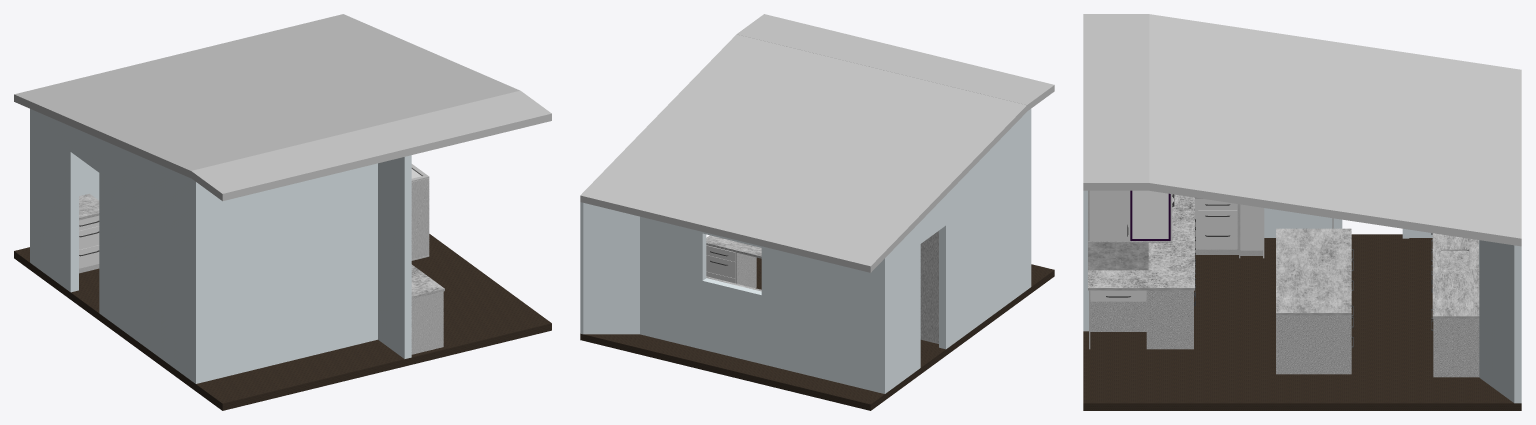
The picture shows the model from 3 angles, left to right: view 1: azimuth 30°, elevation 25°; view 2: azimuth 150°, elevation 25°; view 3: azimuth 270°, elevation 25°; orthographic projection. The views are drawn at different scales.
Parts seen in each view (by area): view 1: Layer:wall, Layer:wall.001, Layer:wall.003, Layer:fillers-columns, Layer:countertop, Layer:doors; view 2: Layer:wall.001, Layer:wall, Layer:wall.003, Layer:fillers-columns, Layer:doors, Layer:countertop; view 3: Layer:wall.001, Layer:wall.003, Layer:countertop, Layer:fillers-columns, Layer:wall, Layer:doors, Layer:doors.002, Layer:wall.002, Layer:handles, Layer:kick.
Boxes of the visible parts, x1=… form: Layer:wall: x1=30, y1=109, x2=411, y2=383; Layer:wall.001: x1=14, y1=14, x2=551, y2=201; Layer:wall.003: x1=14, y1=234, x2=551, y2=410; Layer:fillers-columns: x1=411, y1=178, x2=443, y2=354; Layer:countertop: x1=79, y1=193, x2=444, y2=298; Layer:doors: x1=79, y1=215, x2=99, y2=268; Layer:wall.001: x1=580, y1=14, x2=1054, y2=272; Layer:wall: x1=580, y1=109, x2=1031, y2=393; Layer:wall.003: x1=580, y1=257, x2=1054, y2=410; Layer:fillers-columns: x1=735, y1=231, x2=938, y2=343; Layer:doors: x1=706, y1=245, x2=735, y2=283; Layer:countertop: x1=706, y1=235, x2=761, y2=291; Layer:wall.001: x1=1083, y1=14, x2=1521, y2=246; Layer:wall.003: x1=1083, y1=234, x2=1521, y2=410; Layer:countertop: x1=1088, y1=194, x2=1479, y2=318; Layer:fillers-columns: x1=1088, y1=190, x2=1479, y2=377; Layer:wall: x1=1083, y1=190, x2=1521, y2=403; Layer:doors: x1=1089, y1=190, x2=1262, y2=301; Layer:doors.002: x1=1132, y1=190, x2=1168, y2=238; Layer:wall.002: x1=1088, y1=242, x2=1148, y2=270; Layer:handles: x1=1106, y1=194, x2=1433, y2=347; Layer:kick: x1=1195, y1=249, x2=1262, y2=255.
Bounding box in the file's own units: 5.39 × 3.39 × 5.91.
Materials: 10 (3 with a texture image).
